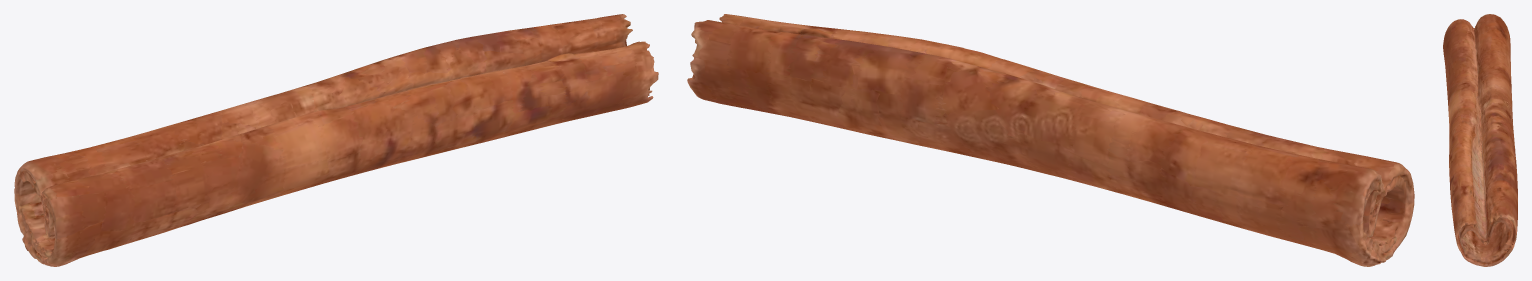
The model's file is stick.glb.
3 views of the same model, side by side, from view 1: azimuth 30°, elevation 25°; view 2: azimuth 150°, elevation 25°; view 3: azimuth 270°, elevation 25° (orthographic). The views are drawn at different scales.
Size of the model in its own units: 1.9 by 0.3171 by 0.2972.
Materials: 1 (1 with a texture image).
